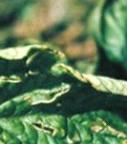Tomato Septoria leaf spot: (0, 37, 127, 144)
